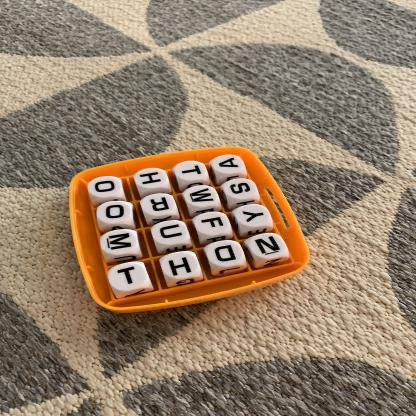a: (215, 155, 244, 174)
d: (208, 242, 245, 268)
f: (196, 212, 232, 236)
h: (162, 253, 200, 280), (135, 168, 168, 189)
m: (101, 230, 139, 256)
n: (251, 234, 287, 261)
o: (97, 202, 135, 225), (89, 177, 123, 198)
r: (141, 194, 177, 217)
s: (224, 179, 258, 200)
t: (109, 263, 149, 292), (176, 162, 208, 182)
u: (154, 221, 189, 246)
w: (185, 186, 219, 209)
y: (237, 205, 272, 229)
